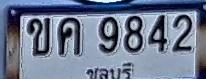2: (173, 14, 192, 51)
4: (148, 14, 166, 52)
8: (124, 15, 142, 52)
9: (99, 16, 118, 53)
A02: (27, 18, 50, 56)
A04: (58, 17, 81, 55)
CBI: (85, 61, 134, 79)
